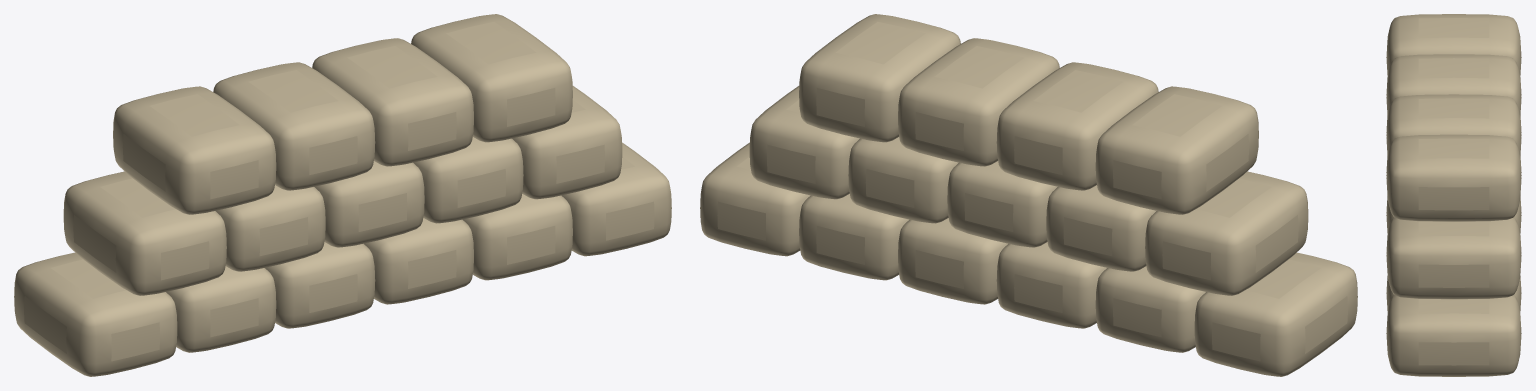
Rendered from sandbags.glb.
3 views of the same model, side by side, from view 1: azimuth 30°, elevation 25°; view 2: azimuth 150°, elevation 25°; view 3: azimuth 270°, elevation 25° (orthographic). The views are drawn at different scales.
Visible parts, largest first — view 1: Bag.011, Bag, Bag.006, Bag.012, Bag.014, Bag.013, Bag.005, Bag.010, Bag.007, Bag.008, Bag.009, Bag.004 (+3 smaller); view 2: Bag.011, Bag, Bag.006, Bag.012, Bag.014, Bag.013, Bag.005, Bag.010, Bag.007, Bag.008, Bag.009, Bag.004 (+3 smaller); view 3: Bag.014, Bag.010, Bag.005, Bag.011, Bag.012, Bag.013, Bag.004, Bag.009.
Part boxes in pixels (x1,y1,x2,y2): Bag.011: [113, 86, 276, 214]; Bag: [14, 252, 177, 376]; Bag.006: [63, 171, 226, 295]; Bag.012: [213, 62, 375, 190]; Bag.014: [411, 14, 572, 142]; Bag.013: [312, 38, 473, 166]; Bag.005: [561, 142, 671, 256]; Bag.010: [512, 86, 622, 199]; Bag.007: [215, 185, 325, 271]; Bag.008: [314, 161, 424, 247]; Bag.009: [413, 137, 523, 223]; Bag.004: [462, 194, 572, 280]; Bag.011: [1095, 86, 1258, 214]; Bag: [1194, 252, 1357, 376]; Bag.006: [1145, 171, 1308, 295]; Bag.012: [996, 62, 1158, 190]; Bag.014: [799, 14, 960, 142]; Bag.013: [898, 38, 1059, 166]; Bag.005: [700, 142, 810, 256]; Bag.010: [749, 86, 859, 199]; Bag.007: [1046, 185, 1156, 271]; Bag.008: [947, 161, 1057, 247]; Bag.009: [848, 137, 958, 223]; Bag.004: [799, 194, 909, 280]; Bag.014: [1386, 134, 1521, 221]; Bag.010: [1386, 217, 1521, 299]; Bag.005: [1386, 295, 1521, 376]; Bag.011: [1386, 14, 1521, 75]; Bag.012: [1386, 54, 1521, 115]; Bag.013: [1386, 94, 1521, 155]; Bag.004: [1386, 276, 1521, 311]; Bag.009: [1386, 198, 1521, 233].
Size of the model in its own units: 2.54 by 0.8561 by 0.5961.
